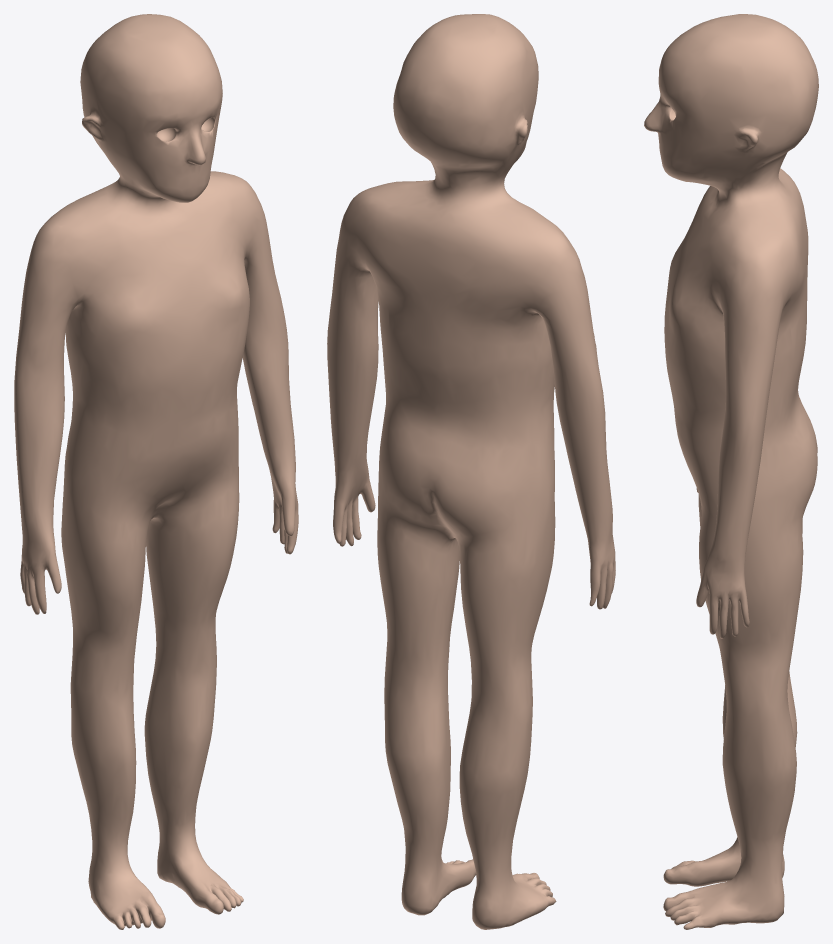
Rendered from pediatric_child_5y_female.surface.LOD1.glb.
3 renders of one model, left to right at view 1: azimuth 30°, elevation 25°; view 2: azimuth 150°, elevation 25°; view 3: azimuth 270°, elevation 25°, orthographic.
Visible parts, largest first — view 1: PEDIATRIC.CHILD_5Y.FEMALE.SURFACE.SKIN; view 2: PEDIATRIC.CHILD_5Y.FEMALE.SURFACE.SKIN; view 3: PEDIATRIC.CHILD_5Y.FEMALE.SURFACE.SKIN.
Part boxes in pixels (x1,y1,x2,y2): PEDIATRIC.CHILD_5Y.FEMALE.SURFACE.SKIN: [14, 14, 298, 929]; PEDIATRIC.CHILD_5Y.FEMALE.SURFACE.SKIN: [327, 14, 615, 929]; PEDIATRIC.CHILD_5Y.FEMALE.SURFACE.SKIN: [644, 14, 818, 929].
Bounding box in the file's own units: 0.3537 × 1.09 × 0.1969.
